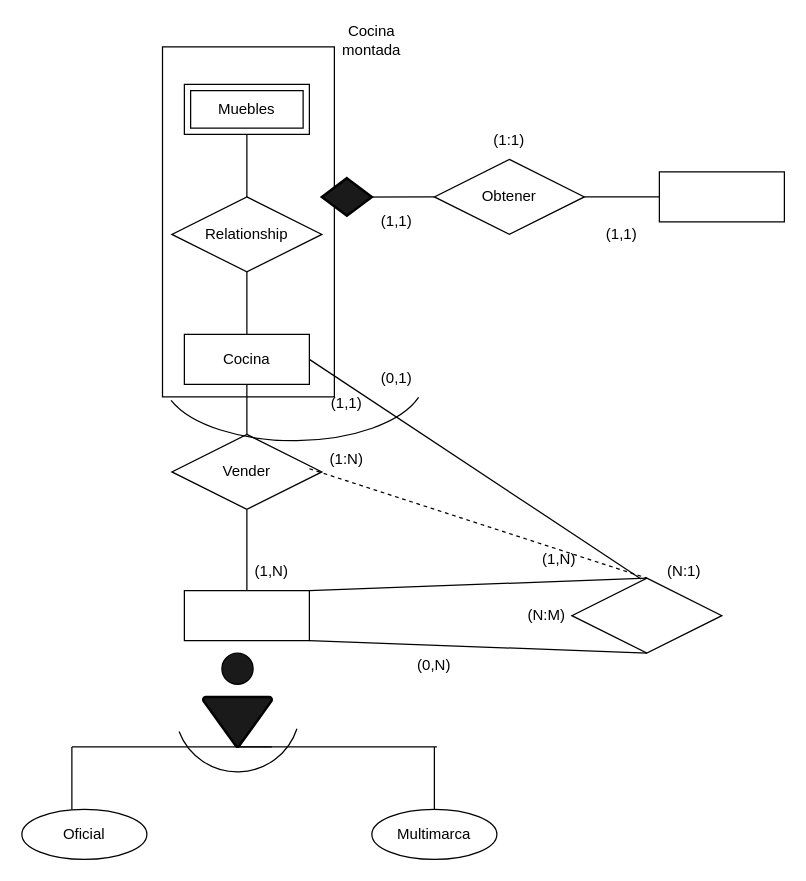
Image size: 806x881. Some labels were removed from this diagram. Here are the shapes that lost their labels. From the top down, the centre of each, then its label:
At point 721,196: "Certificado".
At point 246,615: "Distribuidor".
At point 646,615: "Ceder".
